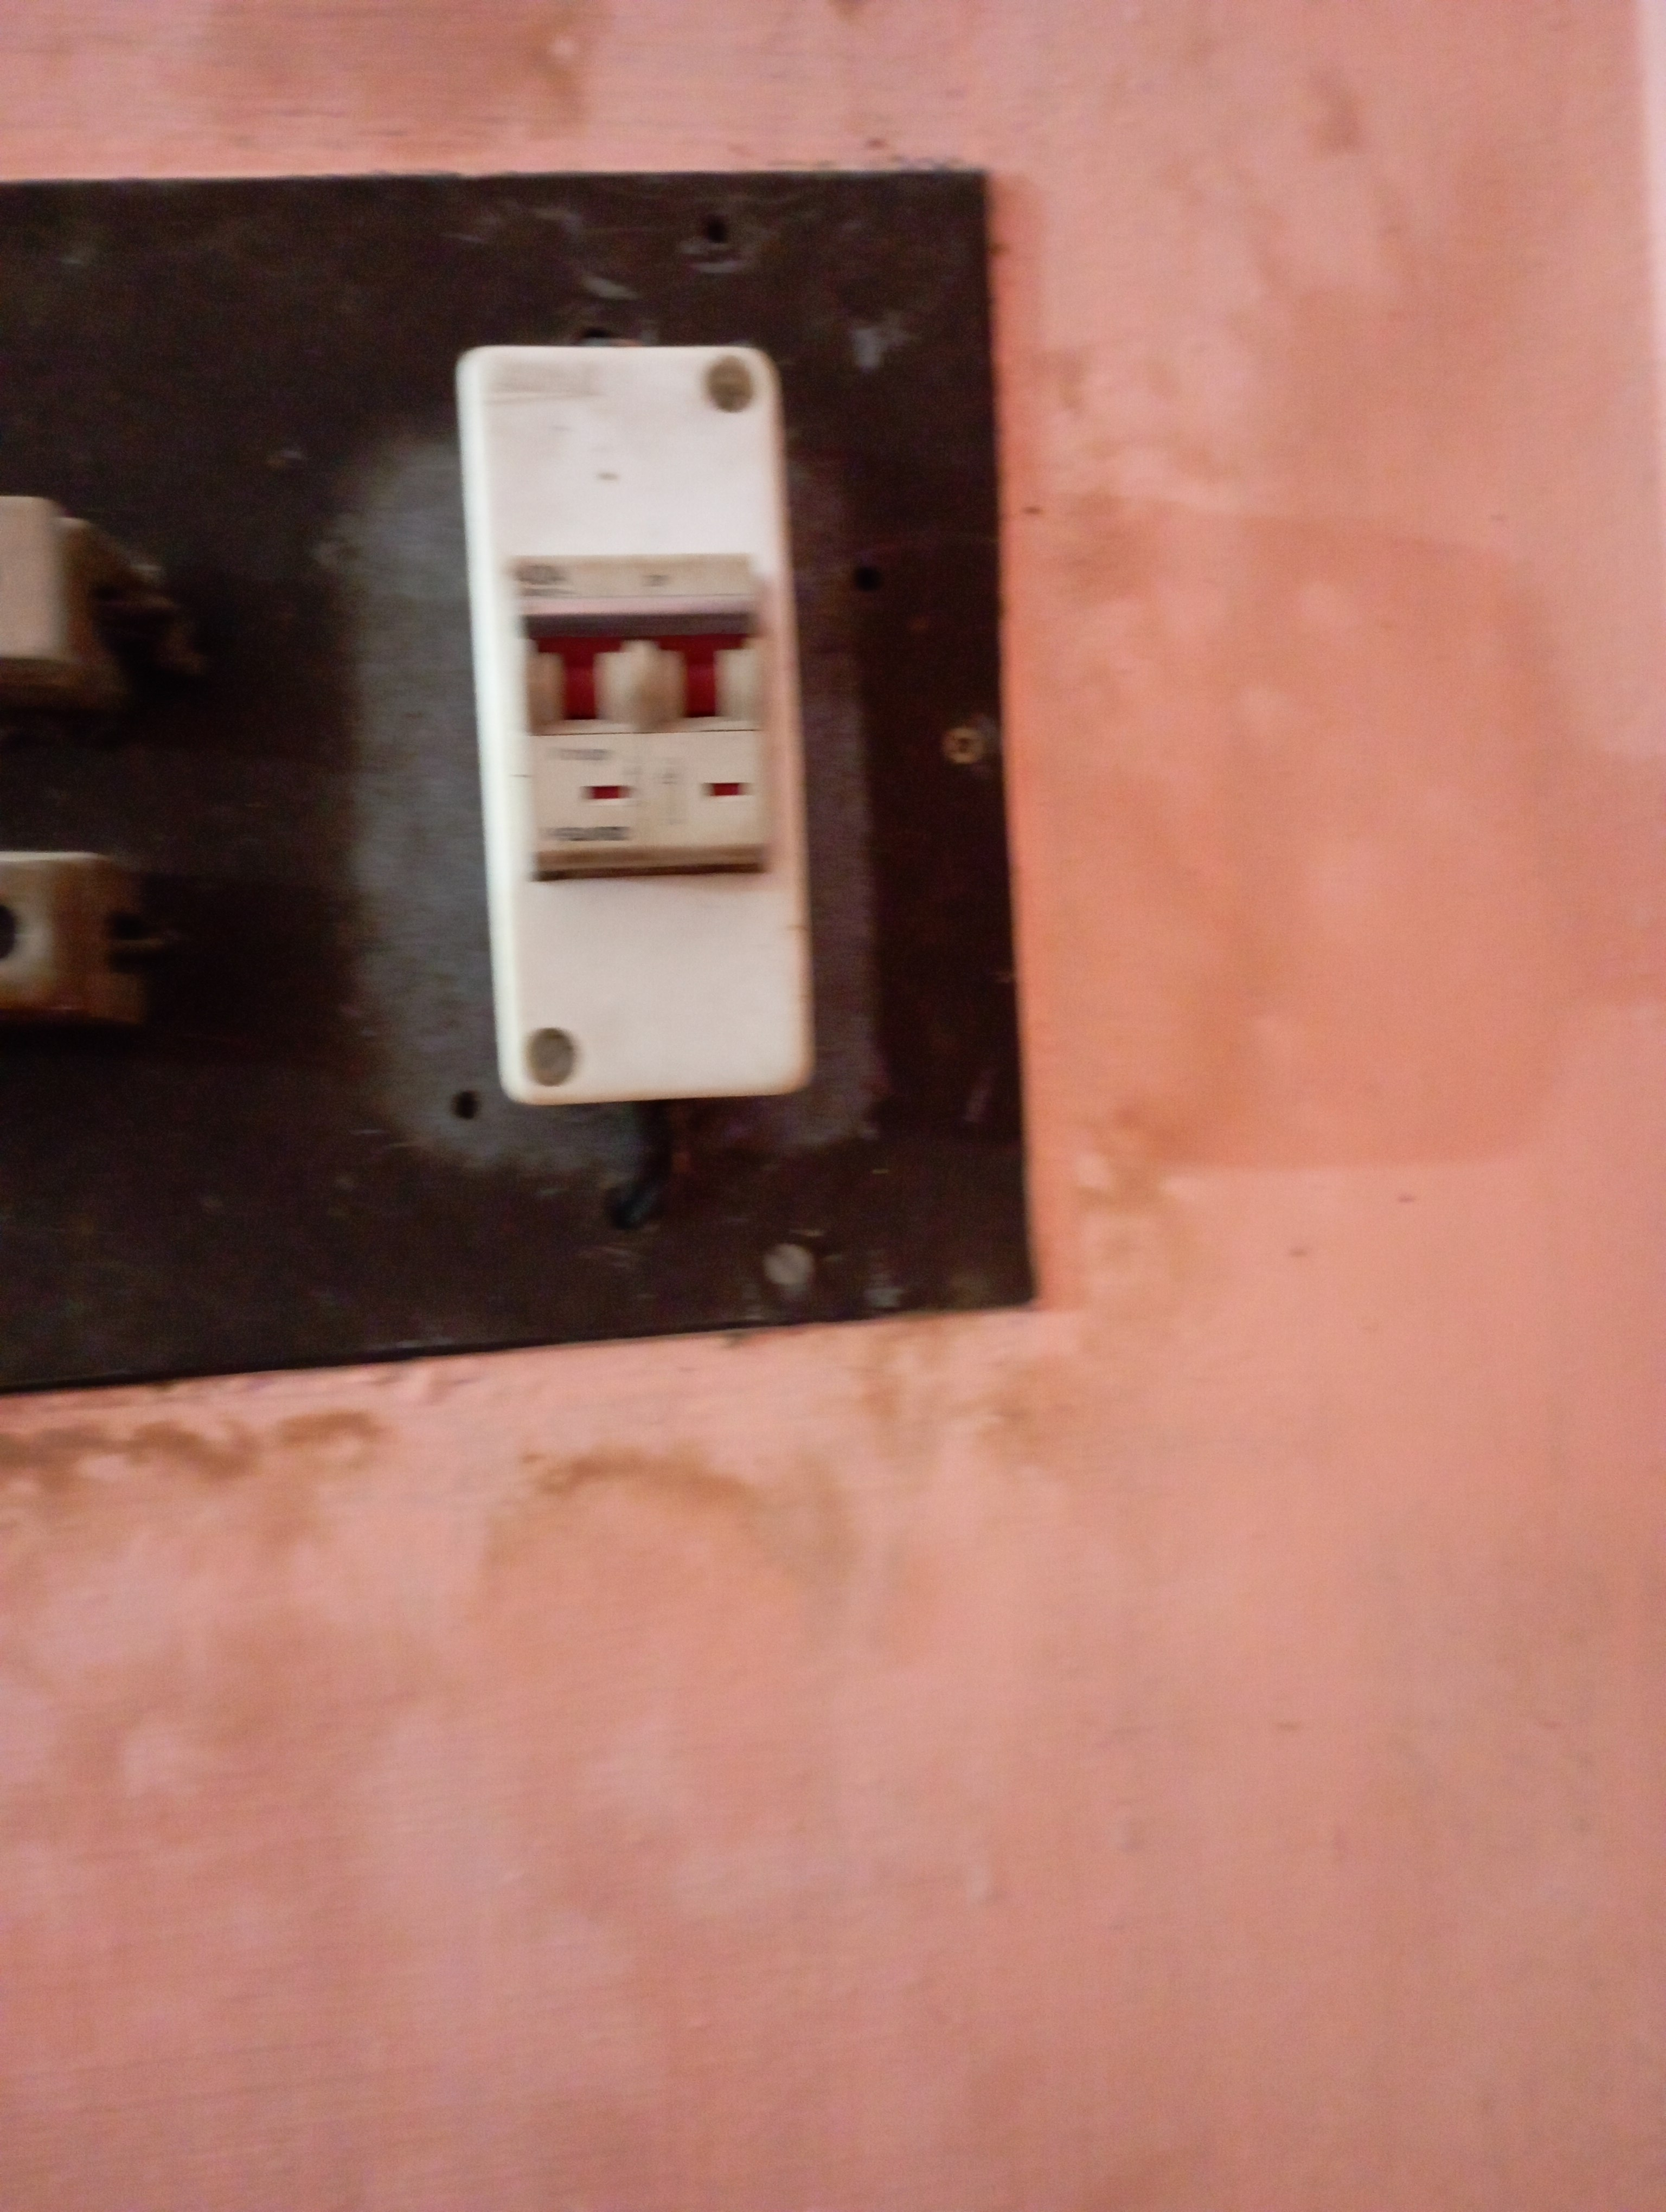ciruit_breaker: (415, 336, 873, 1142)
fuse: (0, 815, 168, 1049), (0, 502, 163, 705)
